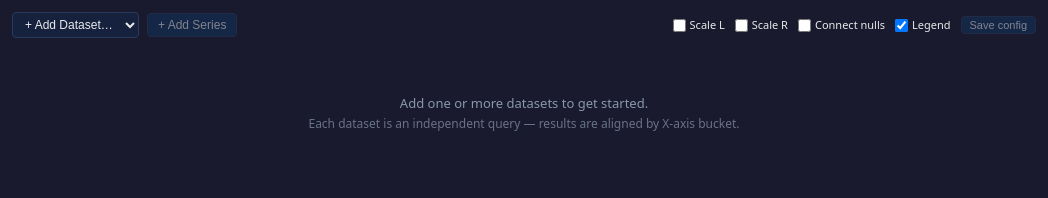
Test: MultiQueryChart — running a dataset › shows error badge when run fails
The image size is (1048, 198).
Select "Revenue Query" in the dropdown: (76, 25) [12,12,139,38]
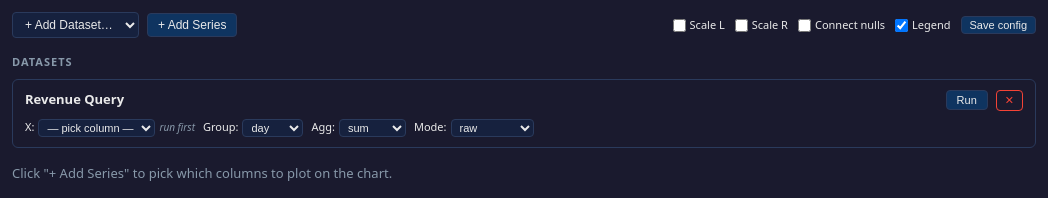
Click the button "Run": click(967, 100) [946,90,988,110]
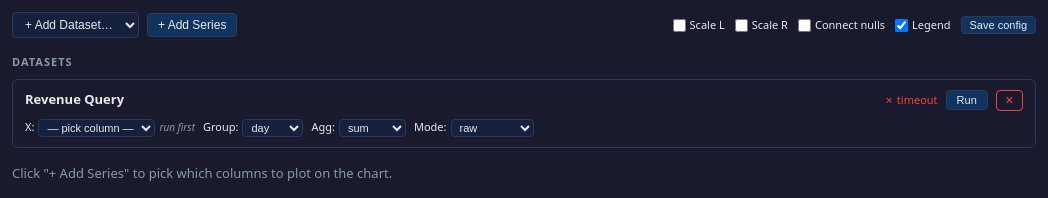
Now the text "✗ timeout" is shown, box [884,92,938,108]
